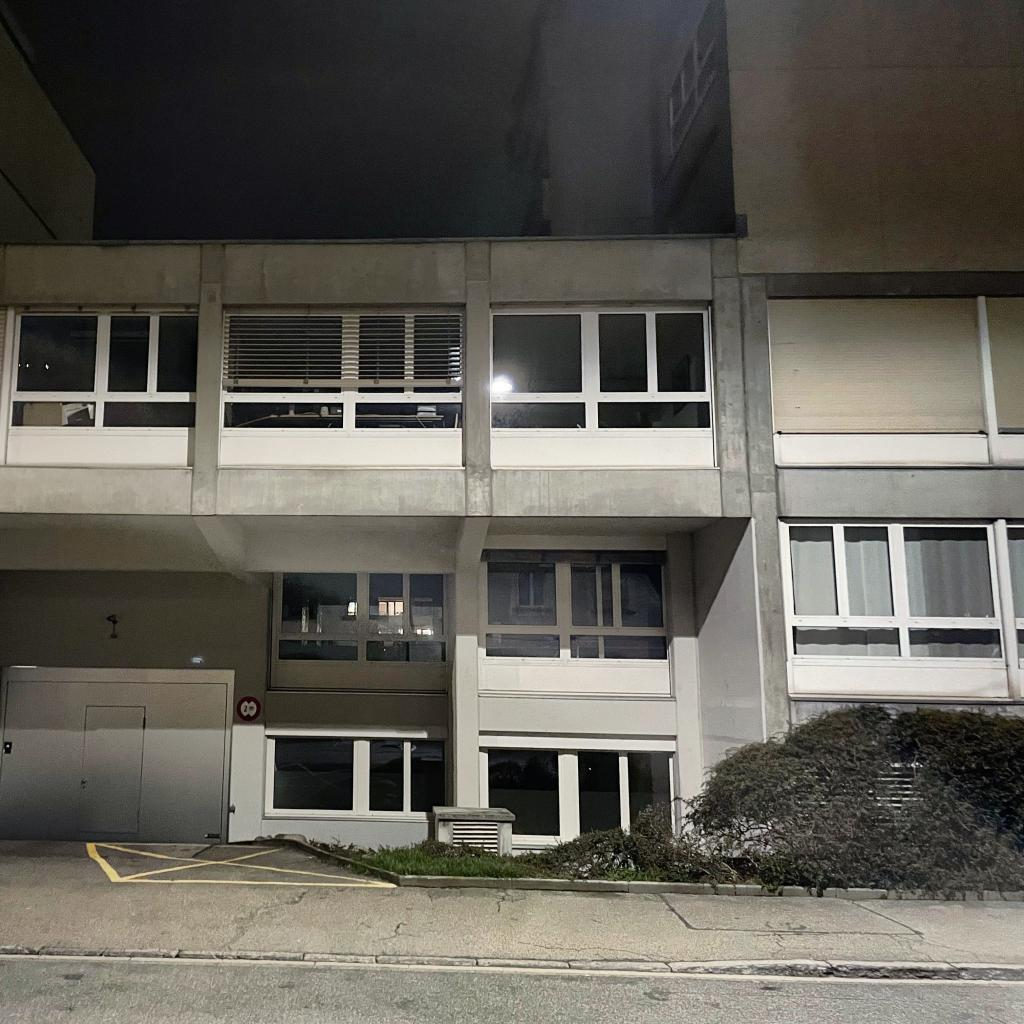facade: (0, 0, 1024, 874)
street: (0, 840, 1024, 1024)
vegetation: (255, 703, 1024, 898)
window: (778, 518, 1007, 662), (767, 298, 987, 434), (222, 314, 462, 429), (490, 309, 711, 428), (9, 311, 199, 430), (479, 748, 676, 846), (486, 562, 667, 659), (278, 572, 446, 662), (265, 736, 445, 818), (666, 17, 721, 154), (986, 297, 1024, 435), (1006, 519, 1024, 669)
